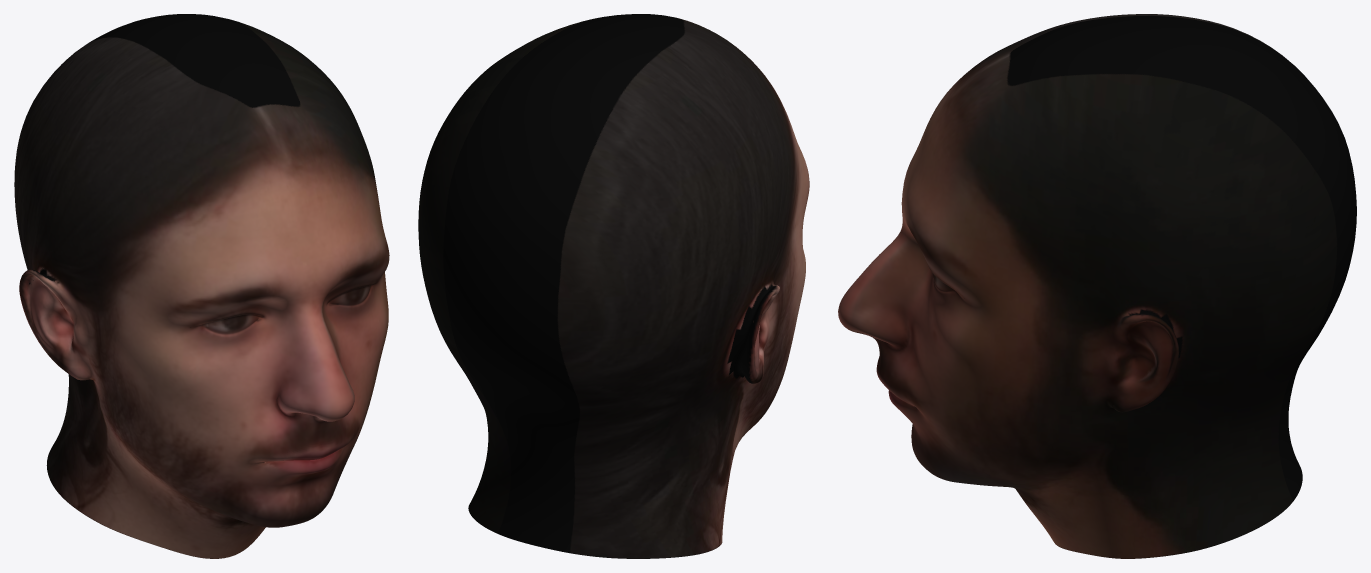
The picture shows the model from 3 angles, left to right: view 1: azimuth 30°, elevation 25°; view 2: azimuth 150°, elevation 25°; view 3: azimuth 270°, elevation 25°; orthographic projection. The views are drawn at different scales.
Parts seen in each view (by area): view 1: FaceBuilderHead; view 2: FaceBuilderHead; view 3: FaceBuilderHead.
Part boxes in pixels (bbox=[...]): FaceBuilderHead: bbox=[14, 14, 389, 558]; FaceBuilderHead: bbox=[418, 14, 809, 558]; FaceBuilderHead: bbox=[838, 14, 1356, 558].
Bounding box in the file's own units: 1.73 × 2.48 × 2.27.
Materials: 1 (1 with a texture image).
